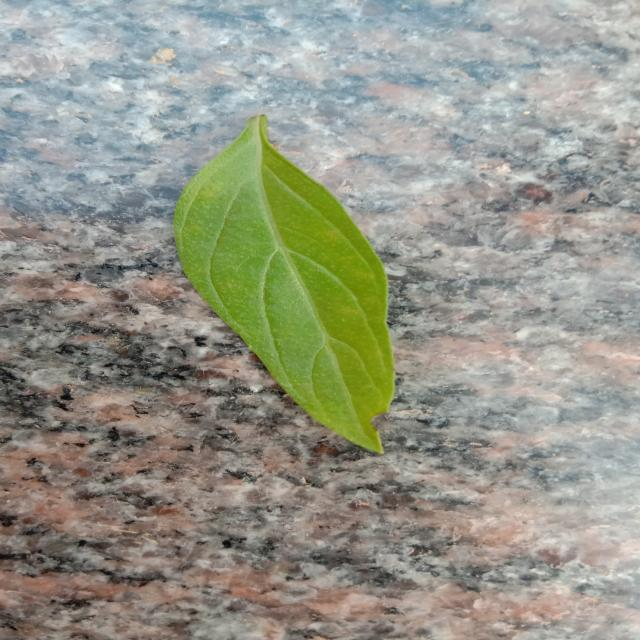kamakasturi: (175, 115, 394, 452)
